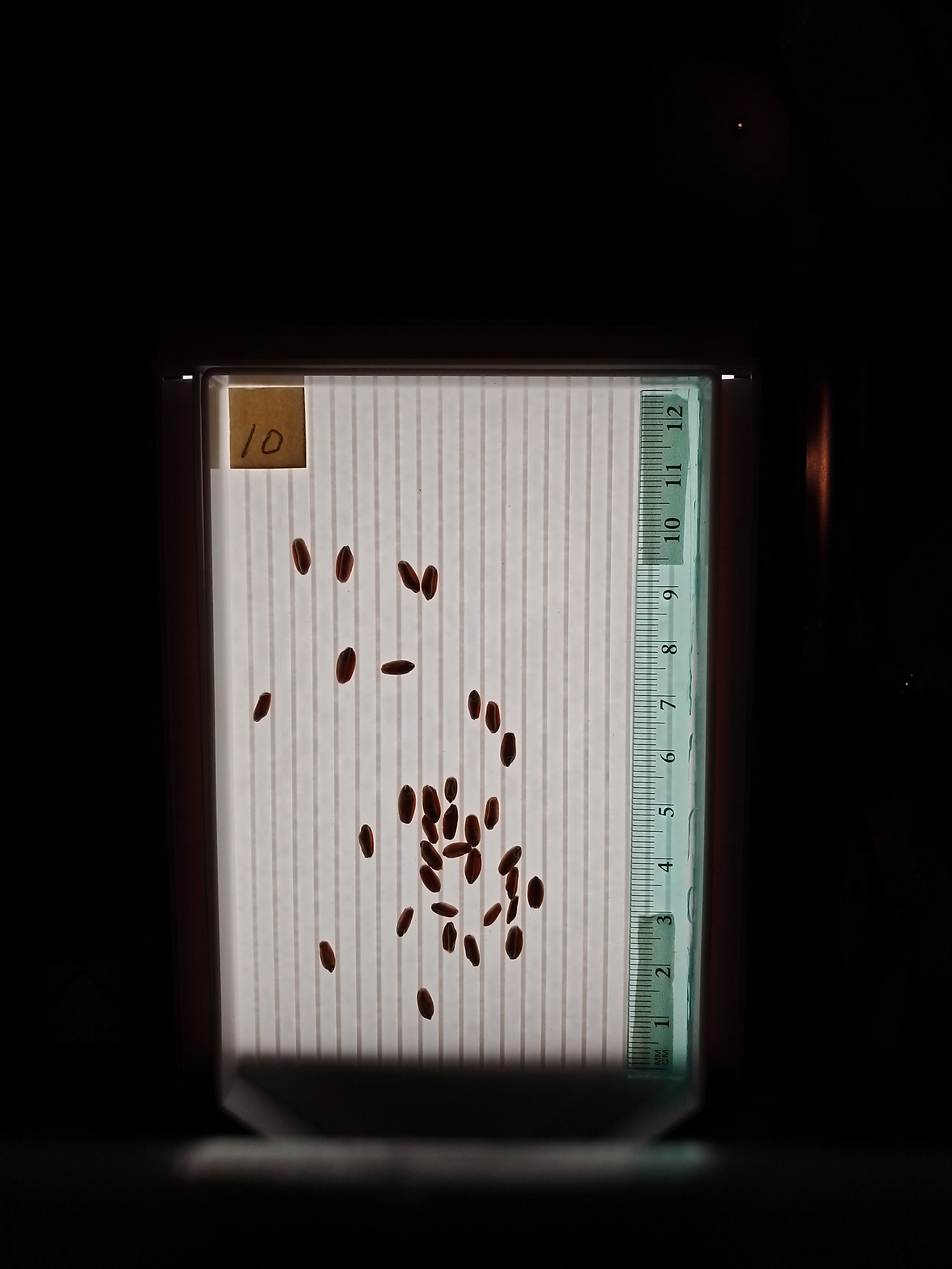seed mask: (336, 648, 356, 684), (398, 561, 420, 593), (292, 538, 311, 575), (398, 786, 416, 823), (336, 546, 354, 583), (441, 805, 459, 840), (420, 842, 442, 870), (423, 786, 440, 822), (499, 846, 520, 874), (420, 865, 440, 893), (417, 988, 434, 1020), (358, 825, 374, 858), (501, 733, 517, 766), (422, 566, 438, 599), (506, 928, 523, 959), (465, 852, 482, 883), (382, 659, 414, 675), (253, 693, 271, 721), (528, 877, 544, 908), (319, 941, 335, 971), (465, 815, 480, 847), (422, 815, 439, 843), (484, 798, 499, 829), (396, 909, 413, 936), (464, 935, 479, 965), (485, 703, 500, 733), (442, 924, 457, 952), (445, 842, 469, 859), (432, 902, 457, 917), (506, 869, 519, 897), (484, 904, 501, 925), (468, 691, 480, 718), (445, 778, 458, 801)
